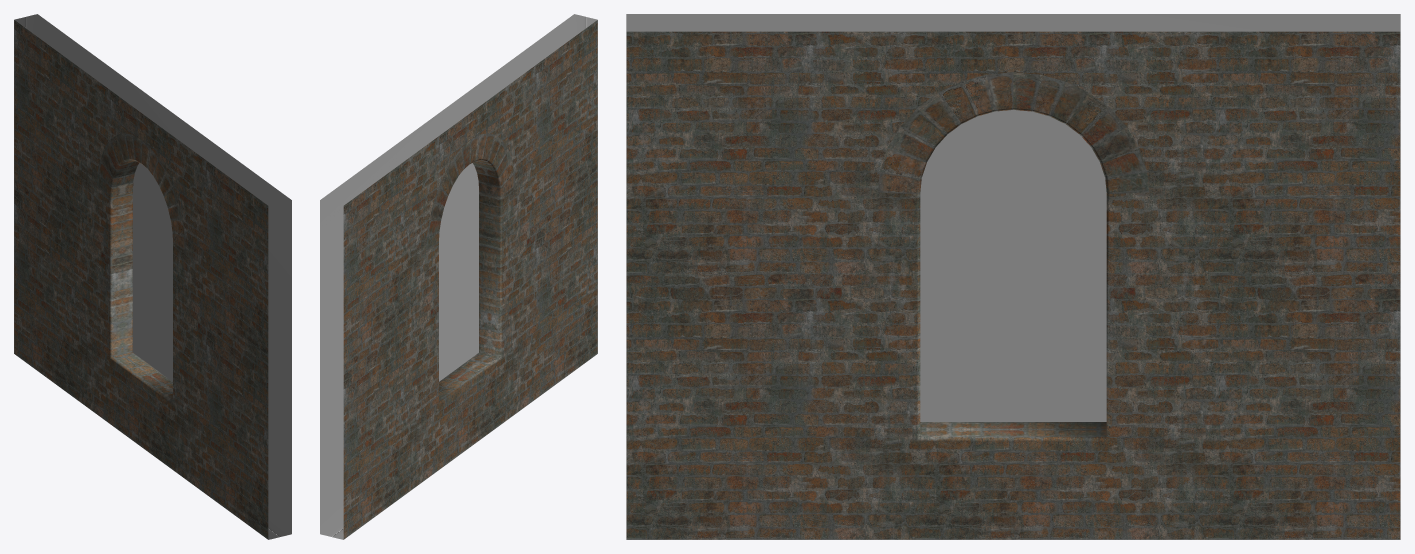
The model's file is SM_Window_Wall.gltf.
The picture shows the model from 3 angles, left to right: view 1: azimuth 30°, elevation 25°; view 2: azimuth 150°, elevation 25°; view 3: azimuth 270°, elevation 25°; orthographic projection. The views are drawn at different scales.
Visible parts, largest first — view 1: SM_Window_Wall_LOD0, SM_Window_Wall_ConvexHulls; view 2: SM_Window_Wall_LOD0, SM_Window_Wall_ConvexHulls; view 3: SM_Window_Wall_LOD0, SM_Window_Wall_ConvexHulls.
Part boxes in pixels (bbox=[...]): SM_Window_Wall_LOD0: bbox=[14, 20, 268, 539]; SM_Window_Wall_ConvexHulls: bbox=[14, 14, 291, 539]; SM_Window_Wall_LOD0: bbox=[343, 20, 597, 539]; SM_Window_Wall_ConvexHulls: bbox=[320, 14, 597, 539]; SM_Window_Wall_LOD0: bbox=[626, 31, 1400, 539]; SM_Window_Wall_ConvexHulls: bbox=[626, 14, 1400, 539].
Size of what is drawn, in the model's own units: 0.3675 by 5 by 6.9.
